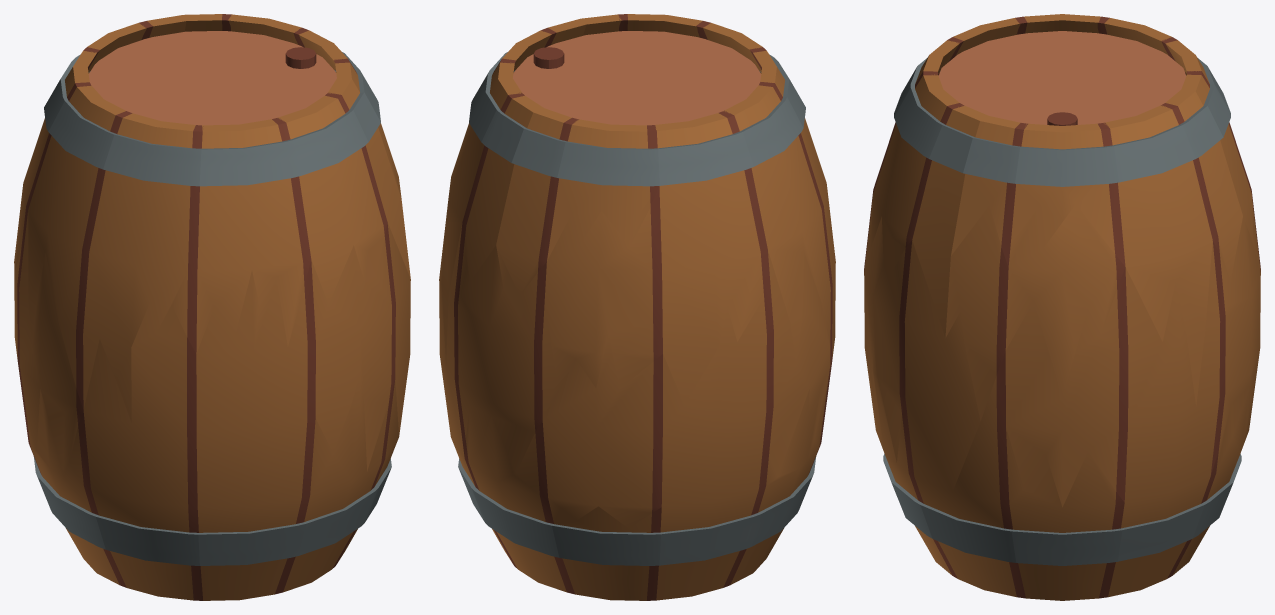
The model's file is Barrel_Broken.fbx.
3 renders of one model, left to right at view 1: azimuth 30°, elevation 25°; view 2: azimuth 150°, elevation 25°; view 3: azimuth 270°, elevation 25°, orthographic.
Parts seen in each view (by area): view 1: barrel.031, barrel.032, barrel.029, barrel.005, barrel.025, barrel.006, barrel.013, barrel.030, barrel.011, barrel.034, barrel.038, barrel.040 (+14 smaller); view 2: barrel.035, barrel.024, barrel.007, barrel.028, barrel.004, barrel.025, barrel.022, barrel.037, barrel.020, barrel.036, barrel.011, barrel.018 (+14 smaller); view 3: barrel.019, barrel.017, barrel.016, barrel.021, barrel.023, barrel.027, barrel.014, barrel.015, barrel.026, barrel.006, barrel.004, barrel.008 (+15 smaller).
Part boxes in pixels (bbox=[...]): barrel.031: bbox=[196, 260, 315, 600]; barrel.032: bbox=[83, 303, 202, 600]; barrel.029: bbox=[83, 113, 203, 422]; barrel.005: bbox=[196, 118, 311, 353]; barrel.025: bbox=[28, 85, 132, 409]; barrel.006: bbox=[278, 92, 387, 303]; barrel.013: bbox=[311, 222, 395, 471]; barrel.030: bbox=[283, 373, 395, 592]; barrel.011: bbox=[19, 212, 83, 461]; barrel.034: bbox=[26, 389, 126, 587]; barrel.038: bbox=[154, 31, 334, 75]; barrel.040: bbox=[120, 60, 292, 123]; barrel.035: bbox=[656, 297, 773, 600]; barrel.024: bbox=[655, 110, 772, 404]; barrel.007: bbox=[542, 299, 662, 528]; barrel.028: bbox=[545, 186, 662, 388]; barrel.004: bbox=[454, 222, 546, 472]; barrel.025: bbox=[723, 82, 832, 362]; barrel.022: bbox=[547, 119, 659, 260]; barrel.037: bbox=[464, 405, 574, 594]; barrel.020: bbox=[496, 107, 578, 294]; barrel.036: bbox=[552, 506, 661, 600]; barrel.011: bbox=[768, 250, 831, 476]; barrel.018: bbox=[462, 92, 544, 281]; barrel.019: bbox=[1108, 241, 1220, 597]; barrel.017: bbox=[1005, 267, 1128, 507]; barrel.016: bbox=[1104, 105, 1212, 406]; barrel.021: bbox=[1006, 427, 1124, 600]; barrel.023: bbox=[905, 351, 1025, 598]; barrel.027: bbox=[1005, 204, 1125, 397]; barrel.014: bbox=[1011, 122, 1125, 265]; barrel.015: bbox=[904, 241, 980, 492]; barrel.026: bbox=[945, 206, 1008, 421]; barrel.006: bbox=[870, 74, 964, 270]; barrel.004: bbox=[1210, 194, 1260, 475]; barrel.008: bbox=[912, 105, 989, 337].
Size of the model in its own units: 0.1344 by 0.1755 by 0.1339.
